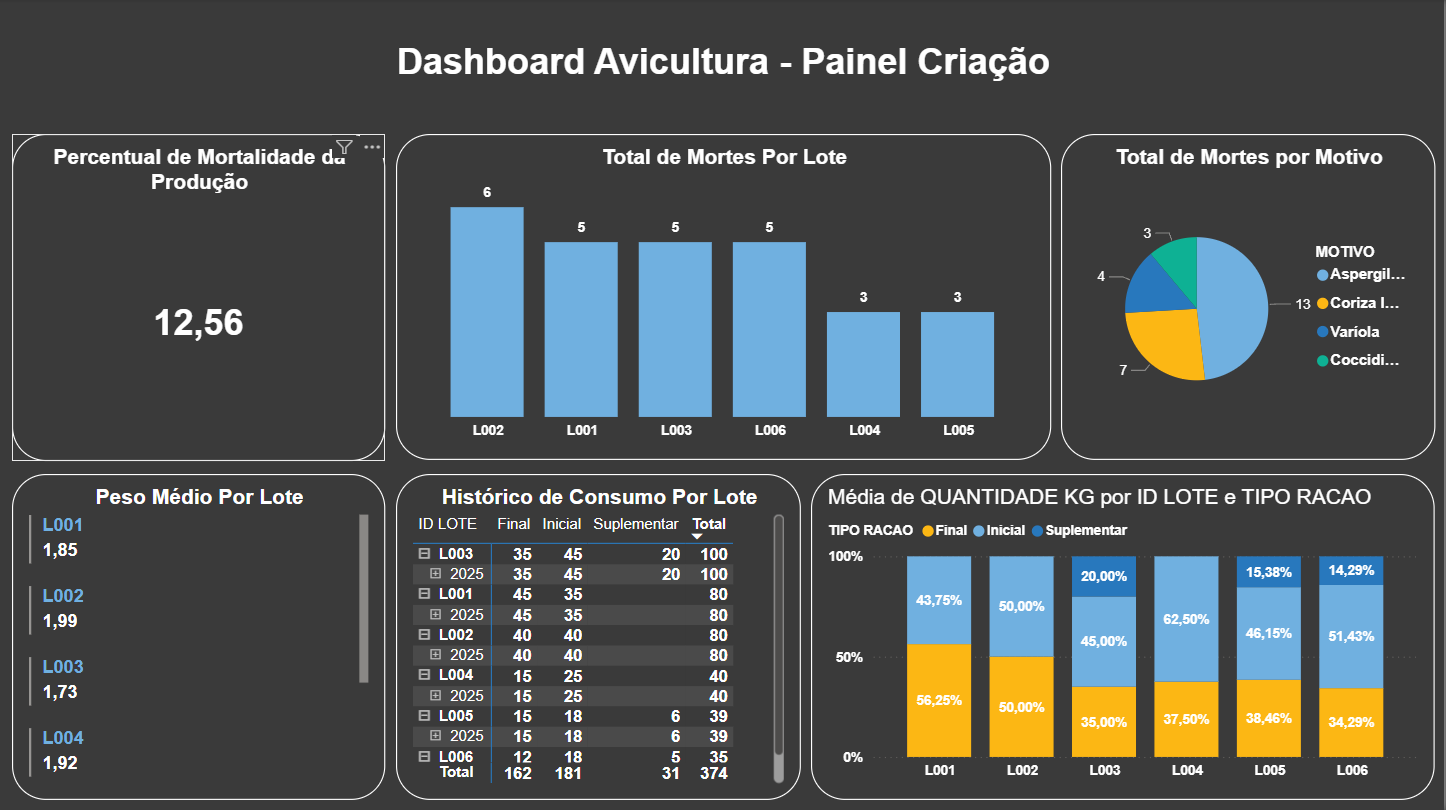

The page's visual inventory and layout, read from the dashboard file:
{"tool":"powerbi","page":{"name":"Criação","canvas":[1280,720],"ordinal":3},"visuals":[{"type":"pivotTable","title":"Histórico de Consumo Por Lote","fields":{"Values":["Sum(Racao.QUANTIDADE KG)"],"Rows":["Racao.ID LOTE","Racao.DATA ENTRADA.Variation.Hierarquia de datas.Ano","Racao.DATA ENTRADA.Variation.Hierarquia de datas.Trimestre","Racao.DATA ENTRADA.Variation.Hierarquia de datas.Mês","Racao.DATA ENTRADA.Variation.Hierarquia de datas.Dia"],"Columns":["Racao.TIPO RACAO"]},"box":[351.1,421.2,358.9,288.9],"z":0},{"type":"hundredPercentStackedColumnChart","fields":{"Category":["Racao.ID LOTE"],"Y":["Avg(Racao.QUANTIDADE KG)"],"Series":["Racao.TIPO RACAO"]},"box":[718.8,421.2,553.4,288.9],"z":1000},{"type":"pieChart","title":"Total de Mortes por Motivo","fields":{"Y":["Sum(Mortalidade.QUANTIDADE)"],"Category":["Mortalidade.MOTIVO"]},"box":[940.5,119.6,331.7,288.9],"z":2000},{"type":"multiRowCard","title":"Peso Médio Por Lote","fields":{"Values":["Peso.ID LOTE","Avg(Peso.PESO MÉDIO (KG))"]},"box":[10.7,421.2,330.7,288.9],"z":3000},{"type":"clusteredColumnChart","title":"Total de Mortes Por Lote","fields":{"Category":["Lote.ID LOTE"],"Y":["Sum(Mortalidade.QUANTIDADE)"]},"box":[351.1,119.6,580.7,288.9],"z":4000},{"type":"card","title":"Percentual de Mortalidade da Produção","fields":{"Values":["TabelaMedidas.PercenMort"]},"box":[10.7,119.6,330.7,289.8],"z":5000},{"type":"textbox","box":[341.4,33.1,600.1,47.7],"z":5001}]}

Visuals, with their boxes in screenshot pixels (x1, y1, x2, y2), scaled from the page's 1280x720 canvas onto the 1446x810 screenshot:
"Histórico de Consumo Por Lote" pivotTable: x1=397 y1=474 x2=802 y2=799
hundredPercentStackedColumnChart - Racao.ID LOTE x Avg(Racao.QUANTIDADE KG): x1=812 y1=474 x2=1437 y2=799
"Total de Mortes por Motivo" pieChart: x1=1062 y1=135 x2=1437 y2=460
"Peso Médio Por Lote" multiRowCard: x1=12 y1=474 x2=386 y2=799
"Total de Mortes Por Lote" clusteredColumnChart: x1=397 y1=135 x2=1053 y2=460
"Percentual de Mortalidade da Produção" card: x1=12 y1=135 x2=386 y2=461
textbox: x1=386 y1=37 x2=1064 y2=91
